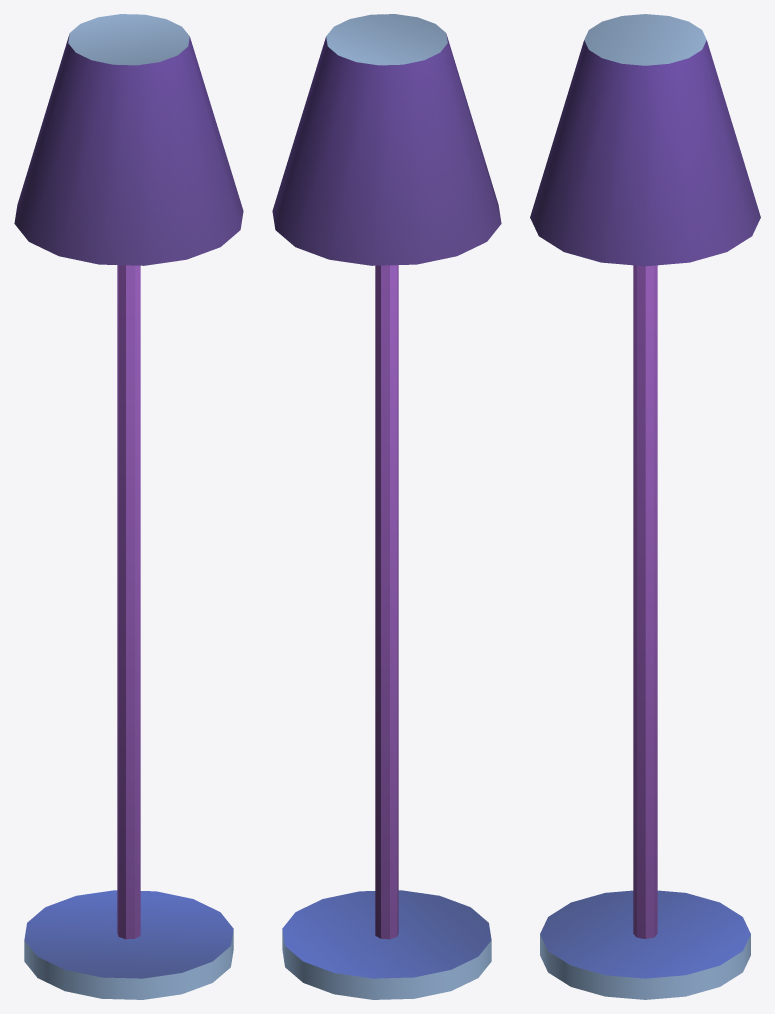
File: PROP_lamp.fbx
3 views of the same model, side by side, from view 1: azimuth 30°, elevation 25°; view 2: azimuth 150°, elevation 25°; view 3: azimuth 270°, elevation 25° (orthographic).
Visible parts, largest first — view 1: PROP_lamp; view 2: PROP_lamp; view 3: PROP_lamp.
Boxes of the visible parts, x1,y1,x2,y2 form: PROP_lamp: (14,14,243,999); PROP_lamp: (272,14,501,999); PROP_lamp: (530,14,760,999).
Bounding box in the file's own units: 46.88 × 205 × 46.88.
